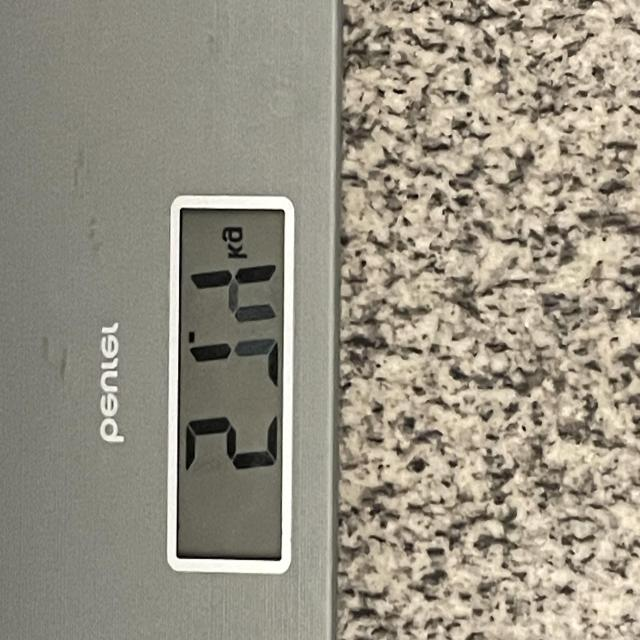ws: (164, 196, 297, 581)
